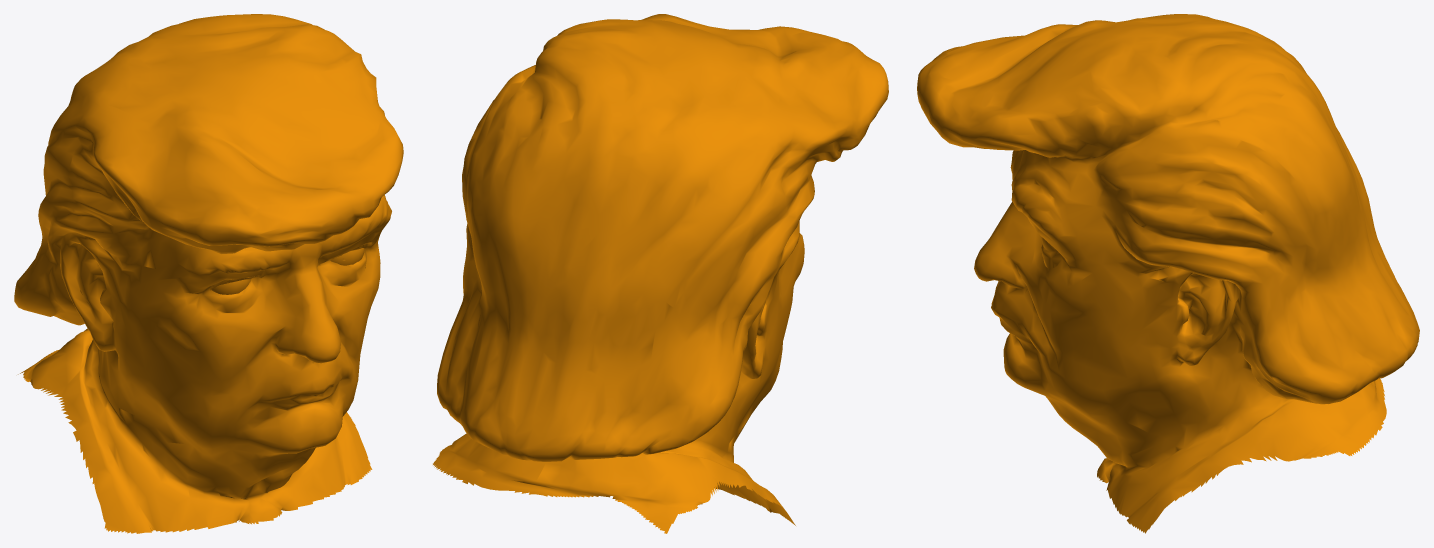
File: djt3.glb
3 views of the same model, side by side, from view 1: azimuth 30°, elevation 25°; view 2: azimuth 150°, elevation 25°; view 3: azimuth 270°, elevation 25° (orthographic). The views are drawn at different scales.
Parts seen in each view (by area): view 1: uploads_files_5567468_DT+PET; view 2: uploads_files_5567468_DT+PET; view 3: uploads_files_5567468_DT+PET.
Part boxes in pixels (x1,y1,x2,y2): uploads_files_5567468_DT+PET: (14,14,403,533); uploads_files_5567468_DT+PET: (433,14,888,533); uploads_files_5567468_DT+PET: (917,14,1419,533).
Bounding box in the file's own units: 1.81 × 2.58 × 2.69.
